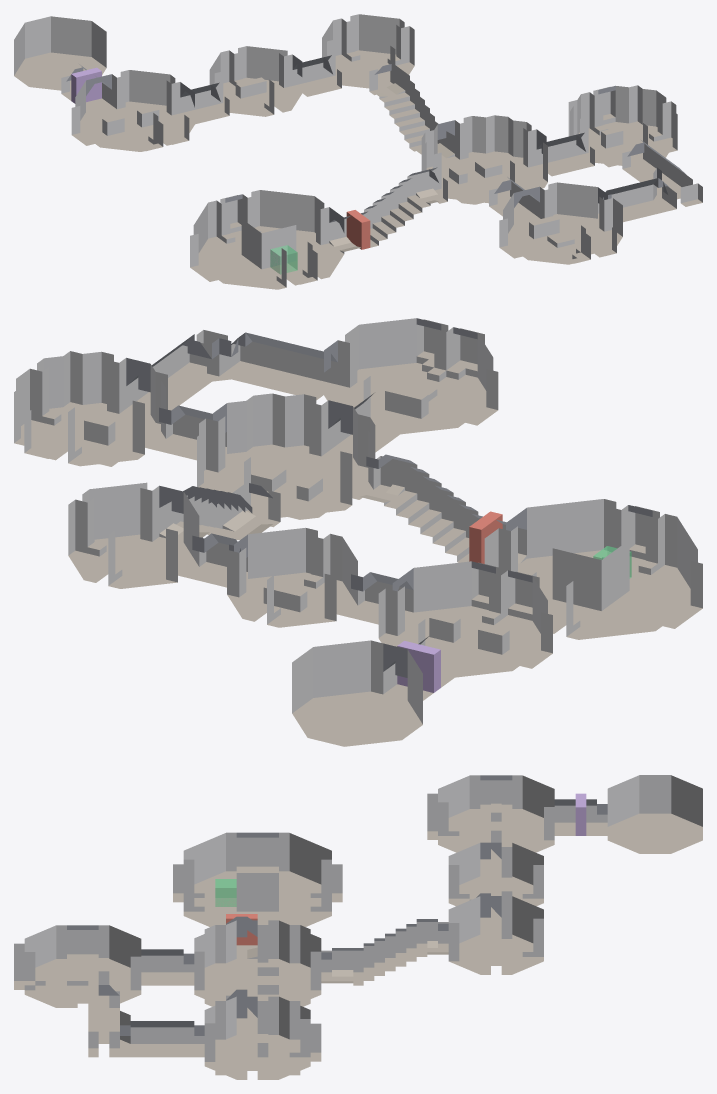
The model's file is pod_research_03.glb.
The picture shows the model from 3 angles, top to bottom: view 1: azimuth 30°, elevation 25°; view 2: azimuth 150°, elevation 25°; view 3: azimuth 270°, elevation 25°; orthographic projection. The views are drawn at different scales.
Parts seen in each view (by area): view 1: room:2, room:1, room:3, room:6, room:7, room:5, room:0, room:4, corridor:7, corridor:1, corridor:0, entities (+21 smaller); view 2: room:1, room:2, room:7, room:3, room:6, room:5, corridor:7, room:0, room:4, corridor:1, corridor:0, room:2/reactor core (+26 smaller); view 3: room:2, room:1, room:3, room:7, room:5, room:6, room:0, corridor:0, corridor:7, room:4, corridor:2, room:2/reactor core (+14 smaller).
Boxes of the visible parts, x1,y1,x2,y2 form: room:2: (193,190,344,289); room:1: (421,115,547,204); room:3: (503,182,622,264); room:6: (75,70,194,151); room:7: (14,16,106,91); room:5: (568,85,677,167); room:0: (322,14,414,89); room:4: (209,46,302,116); corridor:7: (598,140,702,222); corridor:1: (329,167,447,251); corridor:0: (369,64,454,159); entities: (71,67,370,274); room:1: (197,393,375,519); room:2: (484,499,697,639); room:7: (292,640,422,746); room:3: (324,318,493,434); room:6: (378,561,547,677); room:5: (14,351,167,466); corridor:7: (126,330,337,414); room:0: (68,482,199,588); room:4: (227,527,357,627); corridor:1: (360,454,526,564); corridor:0: (159,483,280,542); room:2/reactor core: (552,540,629,610); room:2: (183,832,331,926); room:1: (194,920,321,1012); room:3: (24,925,141,1007); room:7: (607,775,702,853); room:5: (204,996,310,1079); room:6: (438,775,554,858); room:0: (448,896,543,974); corridor:0: (321,919,448,985); corridor:7: (88,985,204,1057); room:4: (448,842,543,916); corridor:2: (141,949,194,985); room:2/reactor core: (236,873,278,911).
Size of the model in its own units: 55 by 10 by 65.
